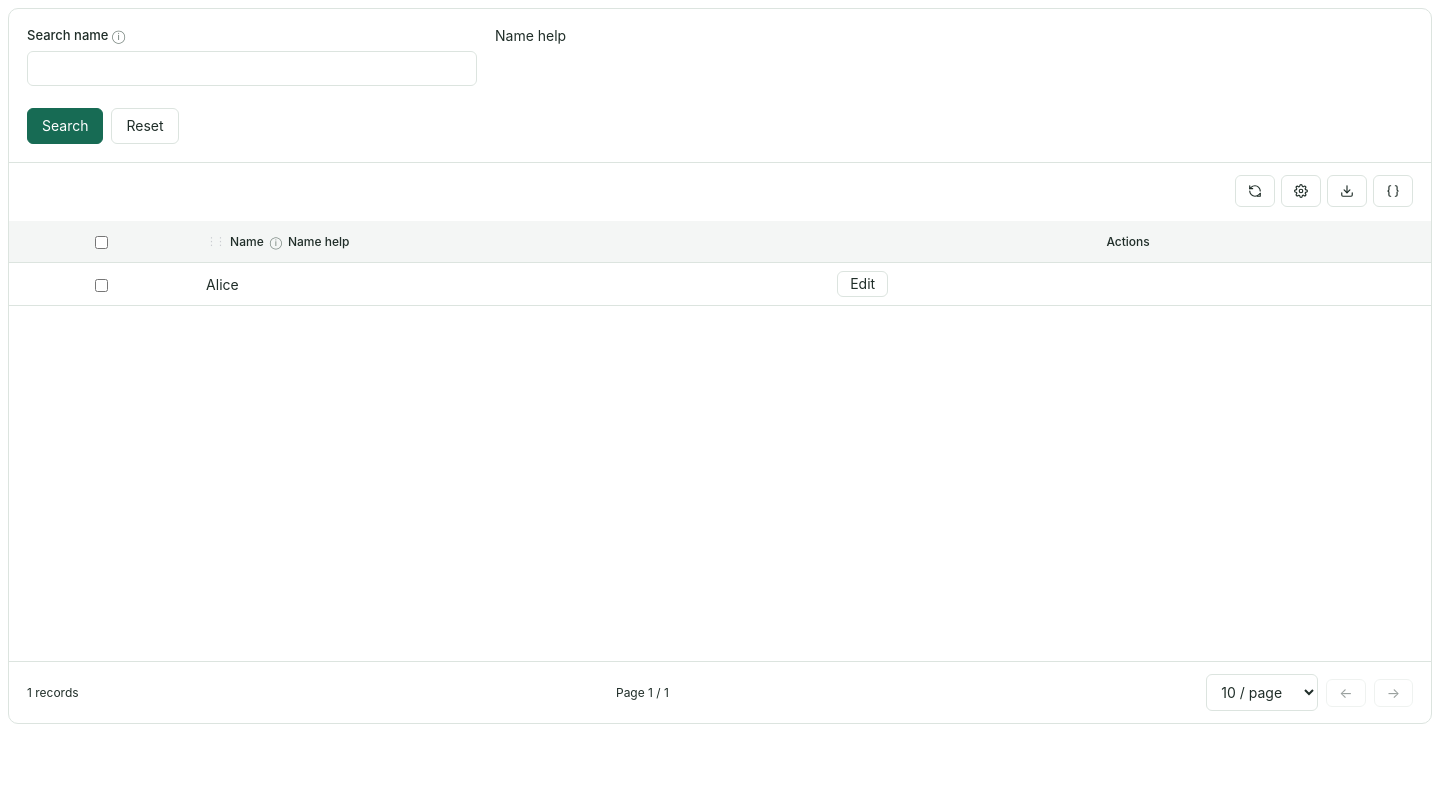
Test case: table edit uses global help ahead of form defaults
Step 1. Click the button with aria-label "Edit row 1" → (863, 284), box [837,271,888,297]
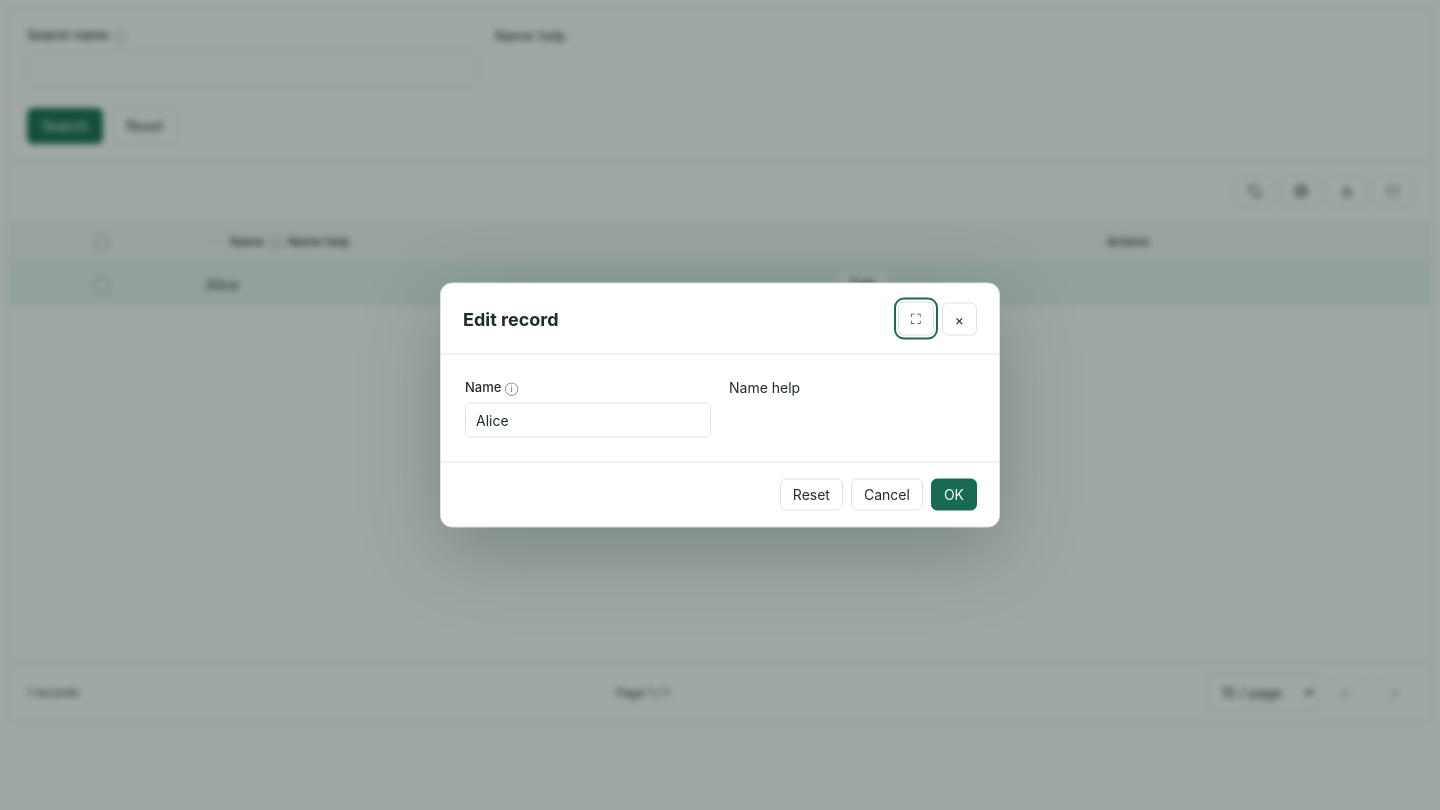
Now the field labelled "Name" holds "Alice", box [465,402,711,438]
Now the text named "Global help" reads "Name help", box [729,378,800,396]
